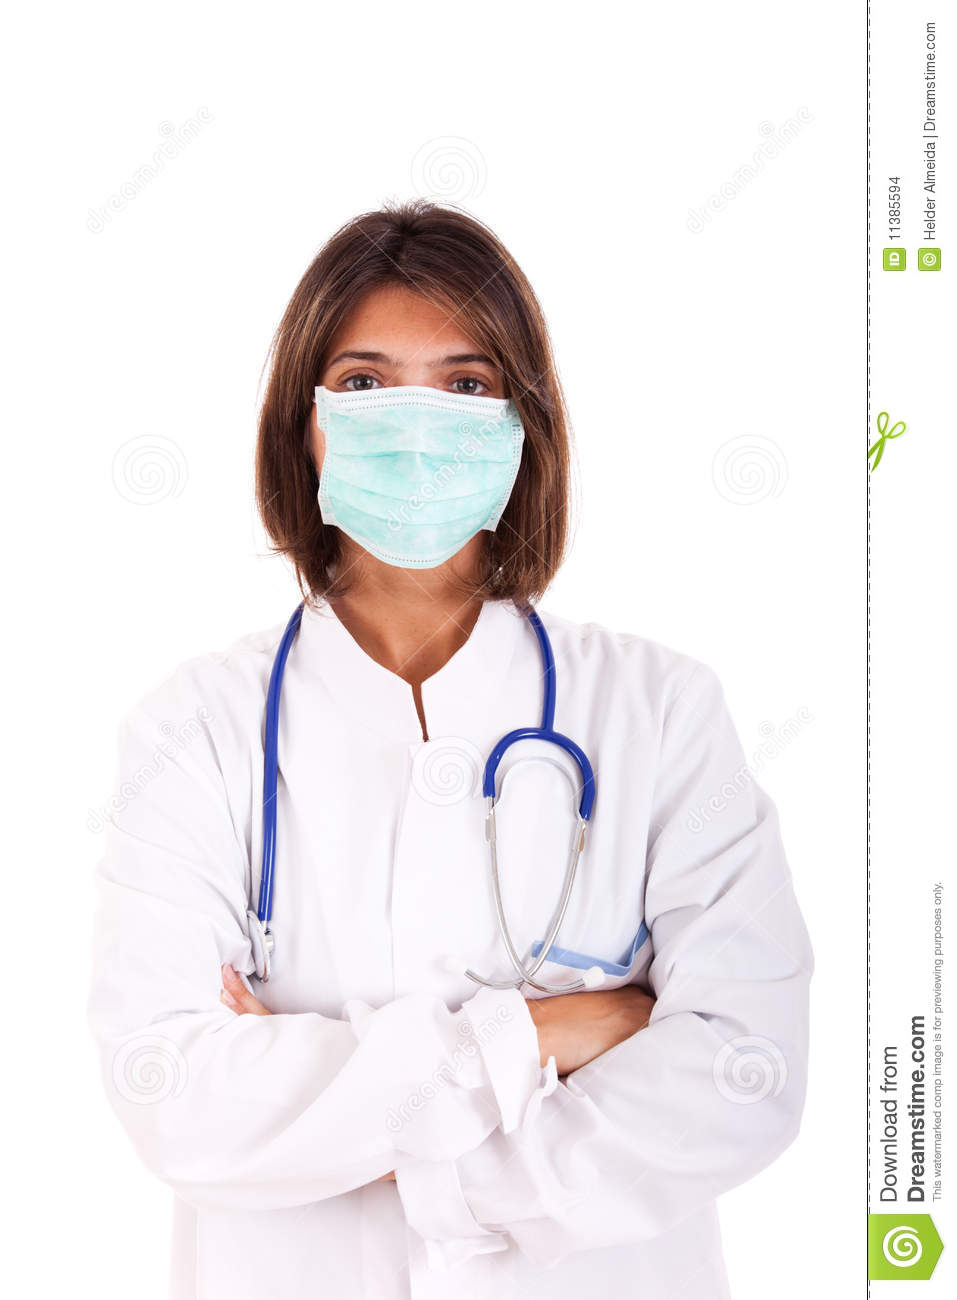mask: (316, 391, 517, 565)
